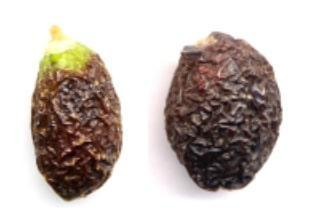Anthracnose: (161, 29, 284, 194), (30, 44, 123, 202)
